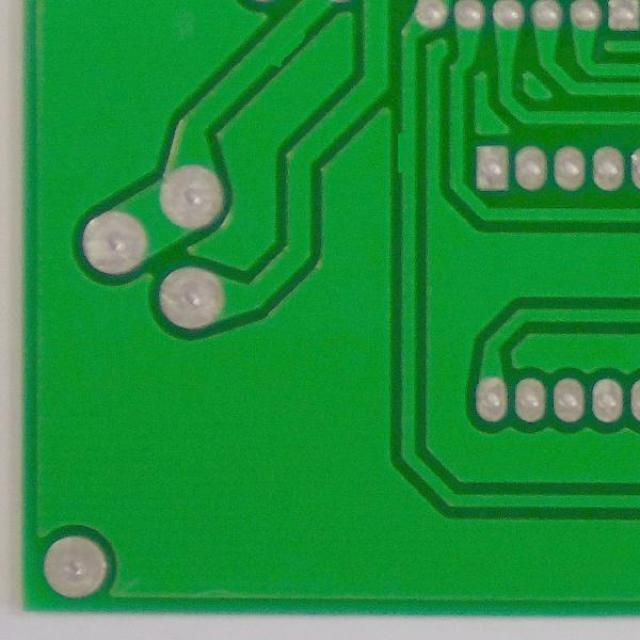Spur: (246, 14, 312, 70), (390, 124, 424, 179)
